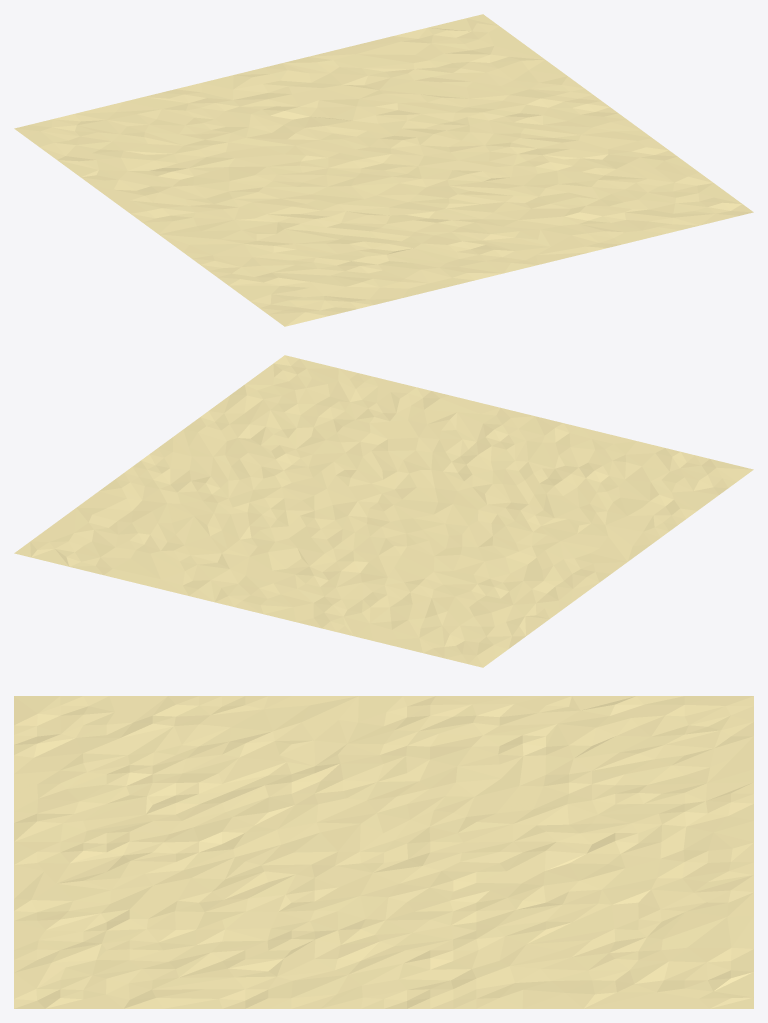
File: Terrain_m_02.fbx
The picture shows the model from 3 angles, top to bottom: view 1: azimuth 30°, elevation 25°; view 2: azimuth 150°, elevation 25°; view 3: azimuth 270°, elevation 25°; orthographic projection. The views are drawn at different scales.
Parts seen in each view (by area): view 1: Terrain_m_02; view 2: Terrain_m_02; view 3: Terrain_m_02.
Part boxes in pixels (x1,y1,x2,y2): Terrain_m_02: (14,14,753,326); Terrain_m_02: (14,355,753,667); Terrain_m_02: (14,696,753,1008).
Bounding box in the file's own units: 10000 × 56.17 × 10000.
